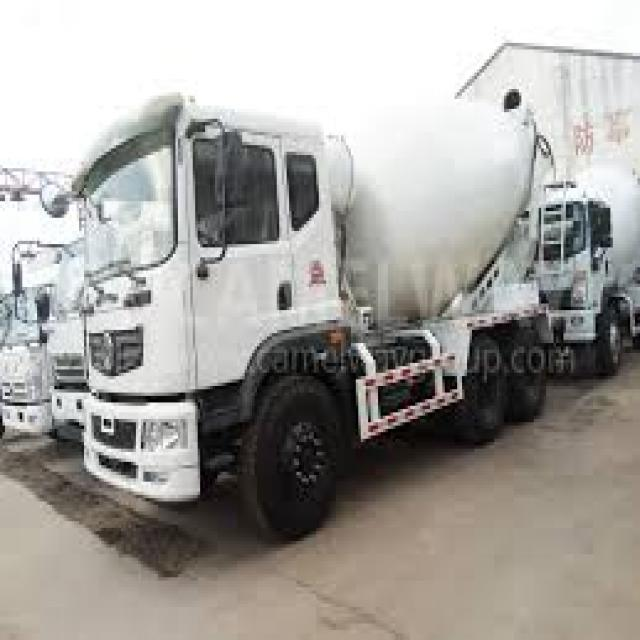Mixer Truck: (66, 86, 578, 543), (520, 163, 640, 379), (49, 222, 140, 454), (0, 259, 71, 446)
